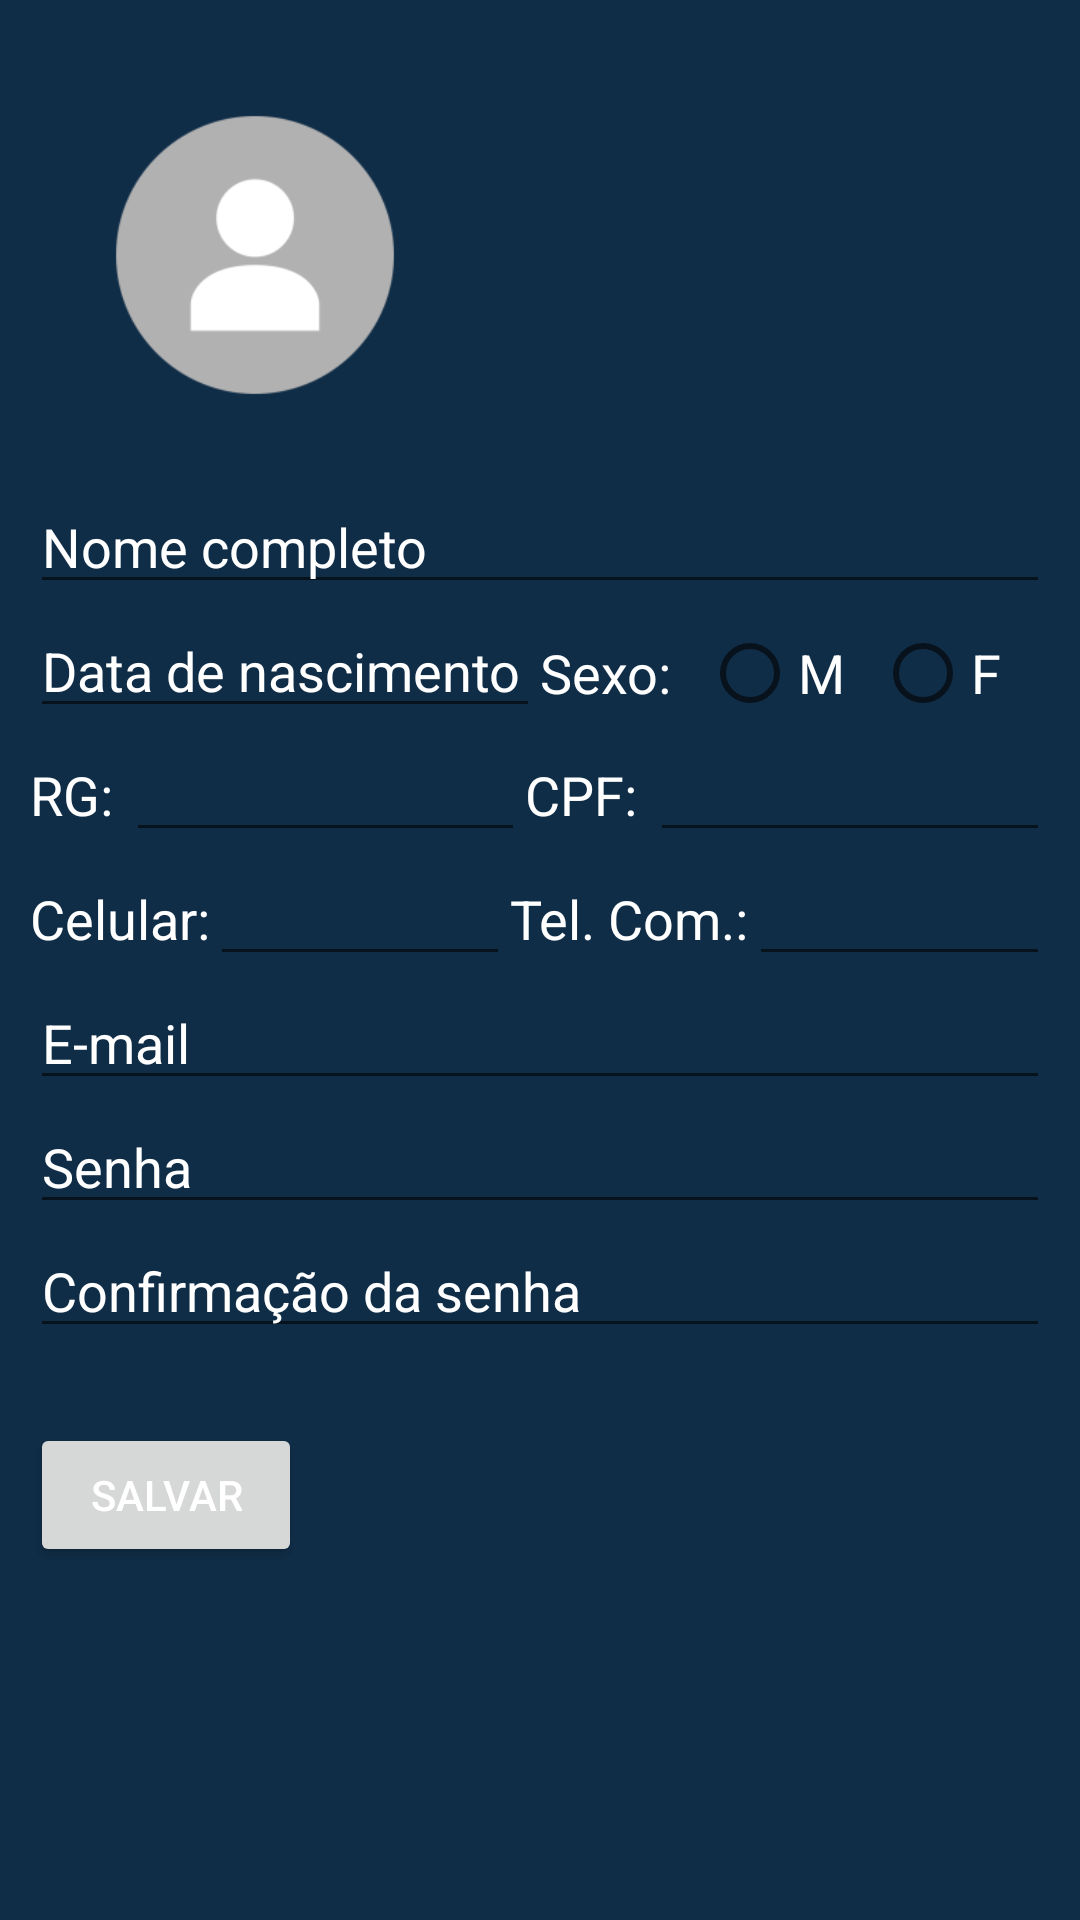

Named icons in this screenshot (1080x1920) and their centers, (x,y):
perfil: (255,255)
